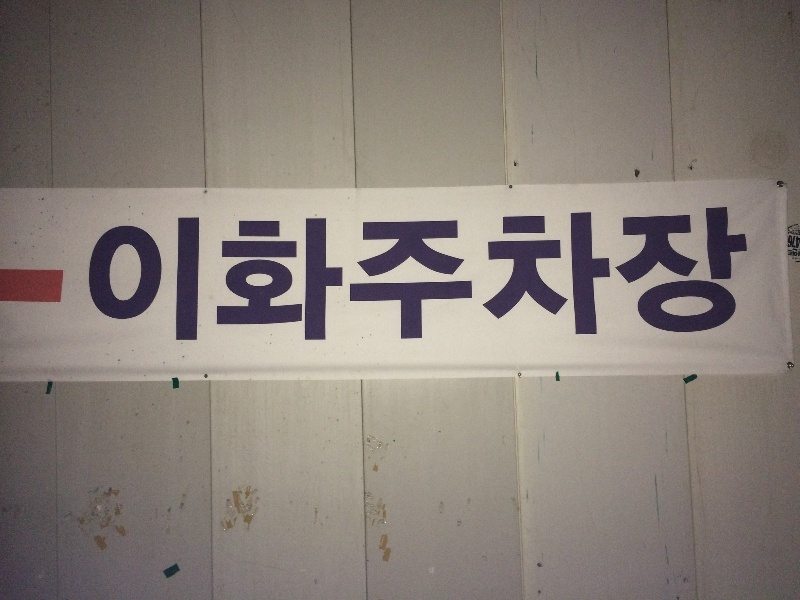text: (97, 207, 112, 345), (113, 207, 128, 345), (129, 207, 144, 345), (145, 207, 160, 345), (161, 207, 176, 345), (177, 207, 192, 345), (193, 207, 208, 345), (209, 207, 224, 345), (225, 207, 240, 345), (241, 207, 256, 345), (257, 207, 272, 345), (273, 207, 288, 345), (289, 207, 304, 345), (305, 207, 320, 345), (321, 207, 336, 345), (337, 207, 352, 345), (353, 207, 368, 345), (369, 207, 384, 345), (385, 207, 400, 345), (401, 207, 416, 345), (417, 207, 432, 345), (433, 207, 448, 345), (449, 207, 464, 345), (465, 207, 480, 345), (481, 207, 496, 345), (497, 207, 512, 345), (513, 207, 528, 345), (529, 207, 544, 345), (545, 207, 560, 345), (561, 207, 576, 345), (577, 207, 592, 345), (593, 207, 608, 345), (609, 207, 624, 345), (625, 207, 640, 345), (641, 207, 656, 345), (657, 207, 672, 345), (673, 207, 688, 345), (689, 207, 704, 345), (705, 207, 720, 345), (721, 207, 736, 345), (737, 207, 749, 345), (89, 207, 96, 345), (787, 235, 800, 249), (788, 249, 800, 258)
